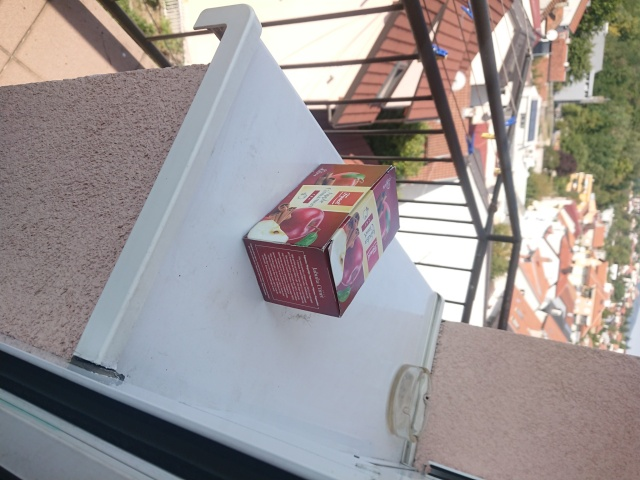Franck Apple Cinnamon Tea 60g: (240, 161, 402, 321)
